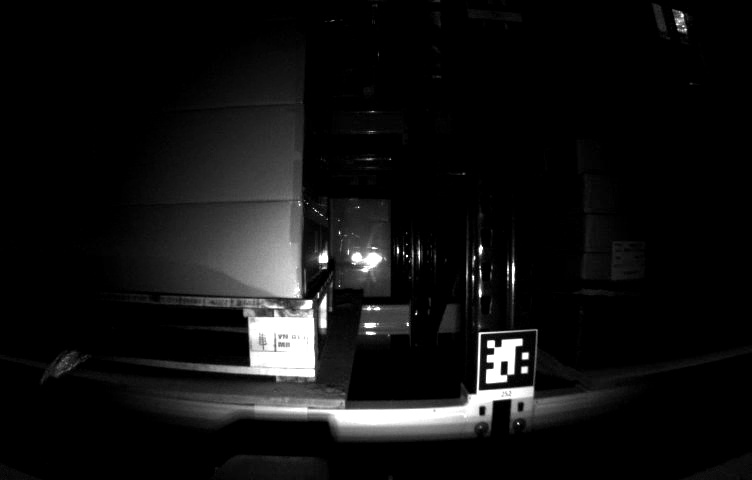True Barcode: (611, 239, 656, 281)
